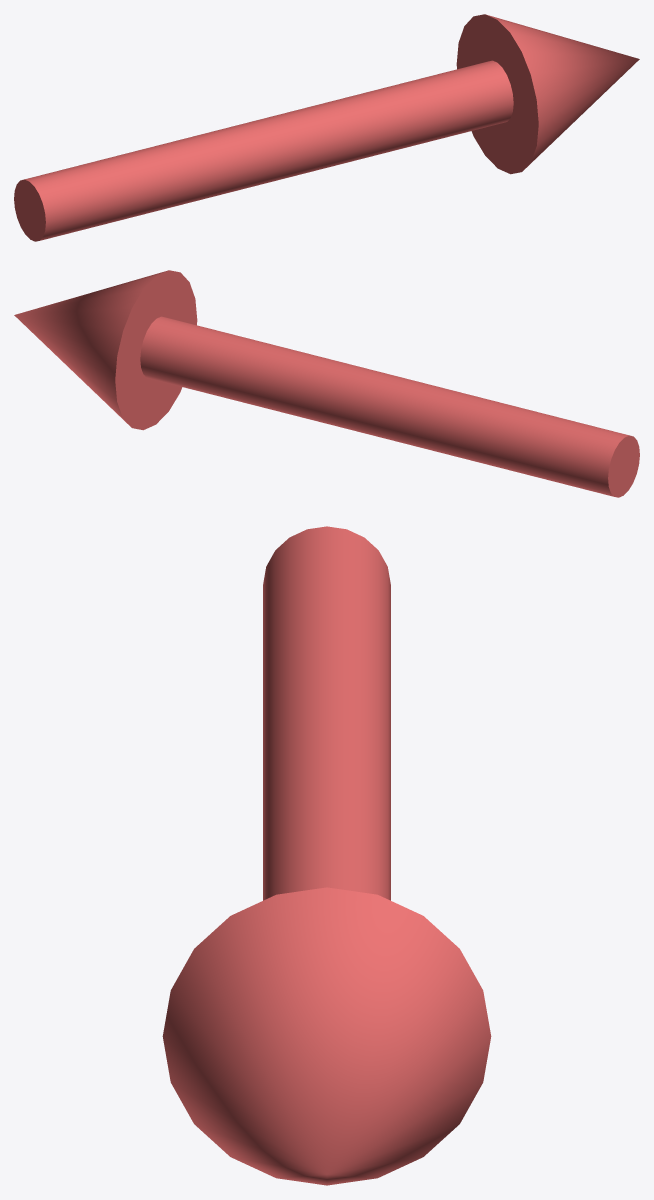
Rendered from ArrowX.fbx.
The picture shows the model from 3 angles, top to bottom: view 1: azimuth 30°, elevation 25°; view 2: azimuth 150°, elevation 25°; view 3: azimuth 270°, elevation 25°; orthographic projection. The views are drawn at different scales.
Visible parts, largest first — view 1: pCylinder2; view 2: pCylinder2; view 3: pCylinder2.
Part boxes in pixels (<box>): pCylinder2: <box>14,14,639,241</box>; pCylinder2: <box>14,270,639,497</box>; pCylinder2: <box>162,526,491,1185</box>.
Bounding box in the file's own units: 6.03 × 1.41 × 1.41.
